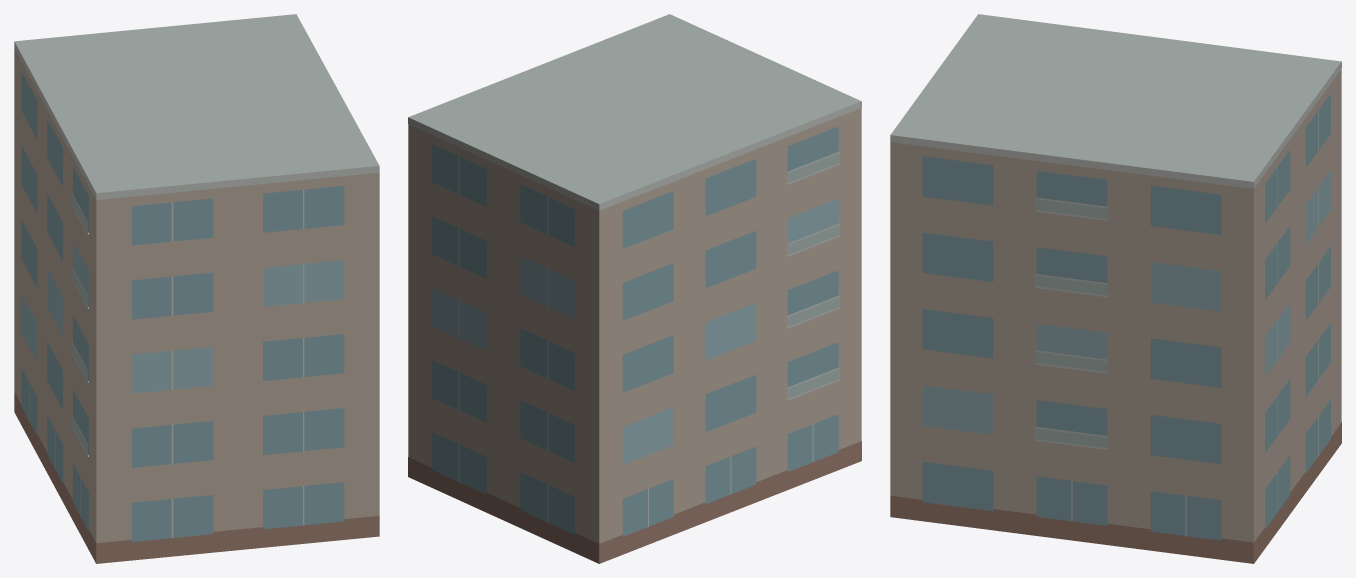
Rendered from survey-upis-33043065.glb.
3 views of the same model, side by side, from view 1: azimuth 30°, elevation 25°; view 2: azimuth 150°, elevation 25°; view 3: azimuth 270°, elevation 25° (orthographic). The views are drawn at different scales.
Visible parts, largest first — view 1: survey-upis-33043065.tmp; view 2: survey-upis-33043065.tmp; view 3: survey-upis-33043065.tmp.
Part boxes in pixels (x1,y1,x2,y2): survey-upis-33043065.tmp: (14, 14, 379, 563); survey-upis-33043065.tmp: (408, 14, 861, 563); survey-upis-33043065.tmp: (890, 14, 1341, 563).
Size of the model in its own units: 12.45 by 13.2 by 14.15.
